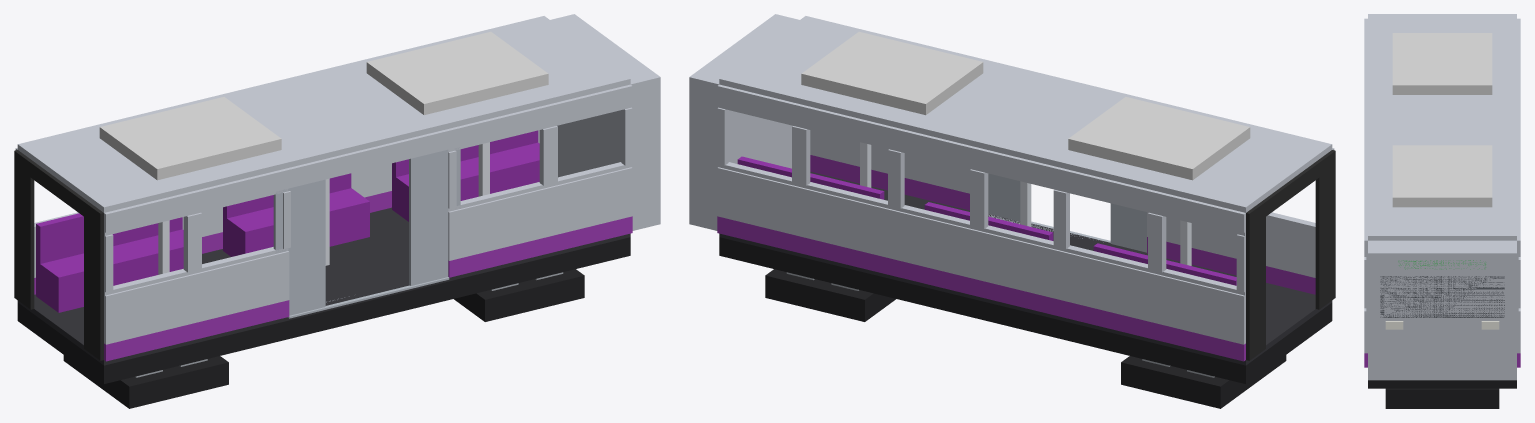
The model's file is metro_wagon_lead_half_l5.obj.
The picture shows the model from 3 angles, left to right: view 1: azimuth 30°, elevation 25°; view 2: azimuth 150°, elevation 25°; view 3: azimuth 270°, elevation 25°; orthographic projection. The views are drawn at different scales.
Size of the model in its own units: 3.16 by 1.26 by 0.88.
